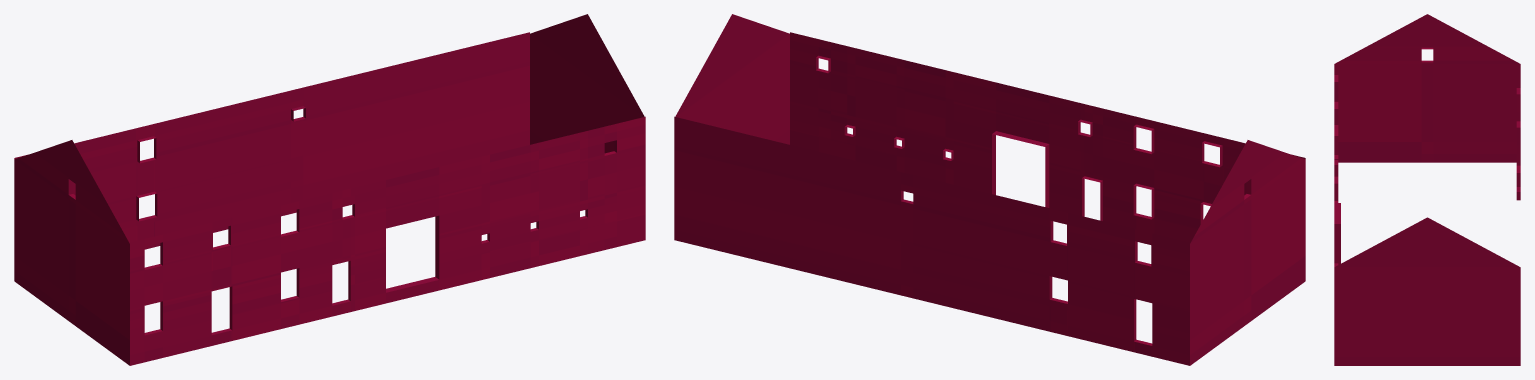
Rendered from SM_Bld_184_Masonry.glb.
3 views of the same model, side by side, from view 1: azimuth 30°, elevation 25°; view 2: azimuth 150°, elevation 25°; view 3: azimuth 270°, elevation 25° (orthographic). The views are drawn at different scales.
Visible parts, largest first — view 1: SM_Bld_184_Masonry; view 2: SM_Bld_184_Masonry; view 3: SM_Bld_184_Masonry.
Boxes of the visible parts, left/top/right/bottom form: SM_Bld_184_Masonry: left=14, top=14, right=645, bottom=365; SM_Bld_184_Masonry: left=674, top=14, right=1305, bottom=365; SM_Bld_184_Masonry: left=1334, top=14, right=1520, bottom=365.
Bounding box in the file's own units: 25.21 × 8.59 × 9.78.
